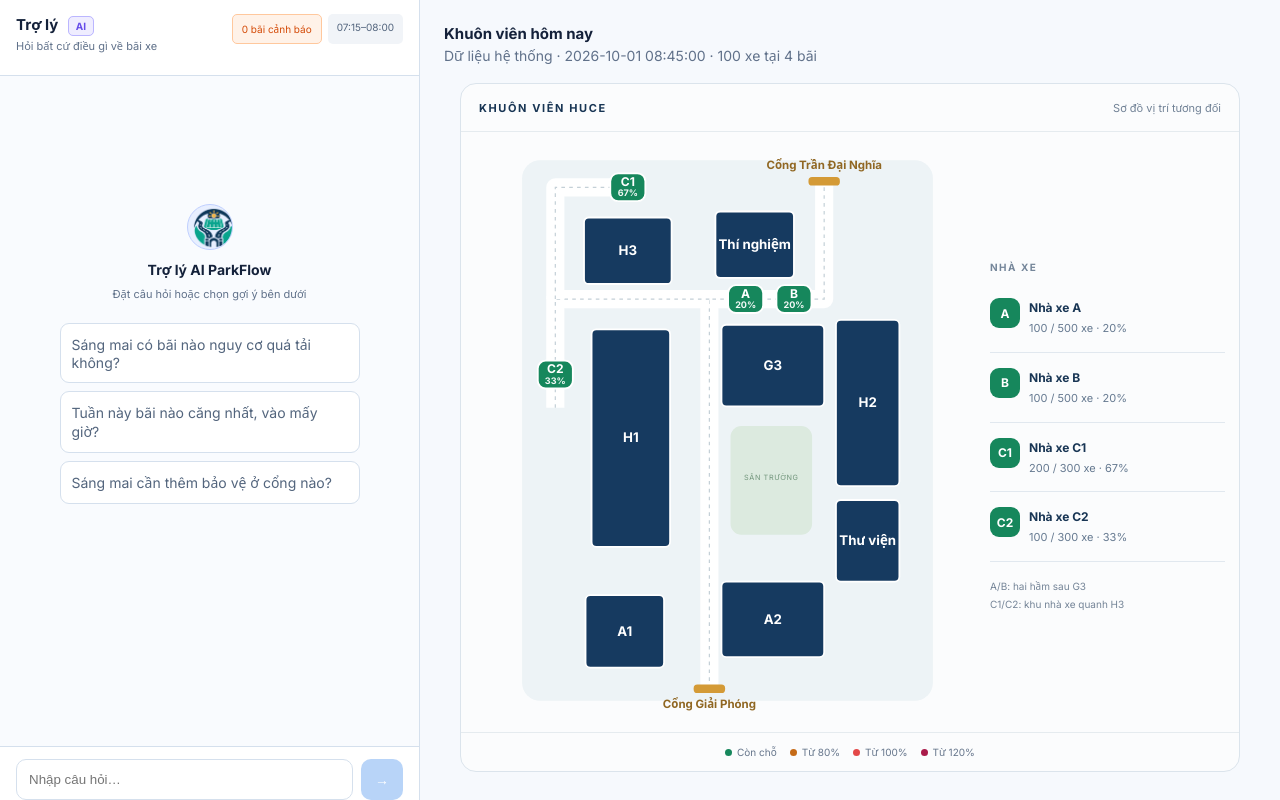
Test case: AssistantPage › renders AI markdown as text and never injects returned HTML
The width and height of the screenshot is (1280, 800).
Type "Kiểm tra an toàn" into the field labelled "Nhập câu hỏi" at (184, 780), box 16,759 -> 353,799
(page scrolled)
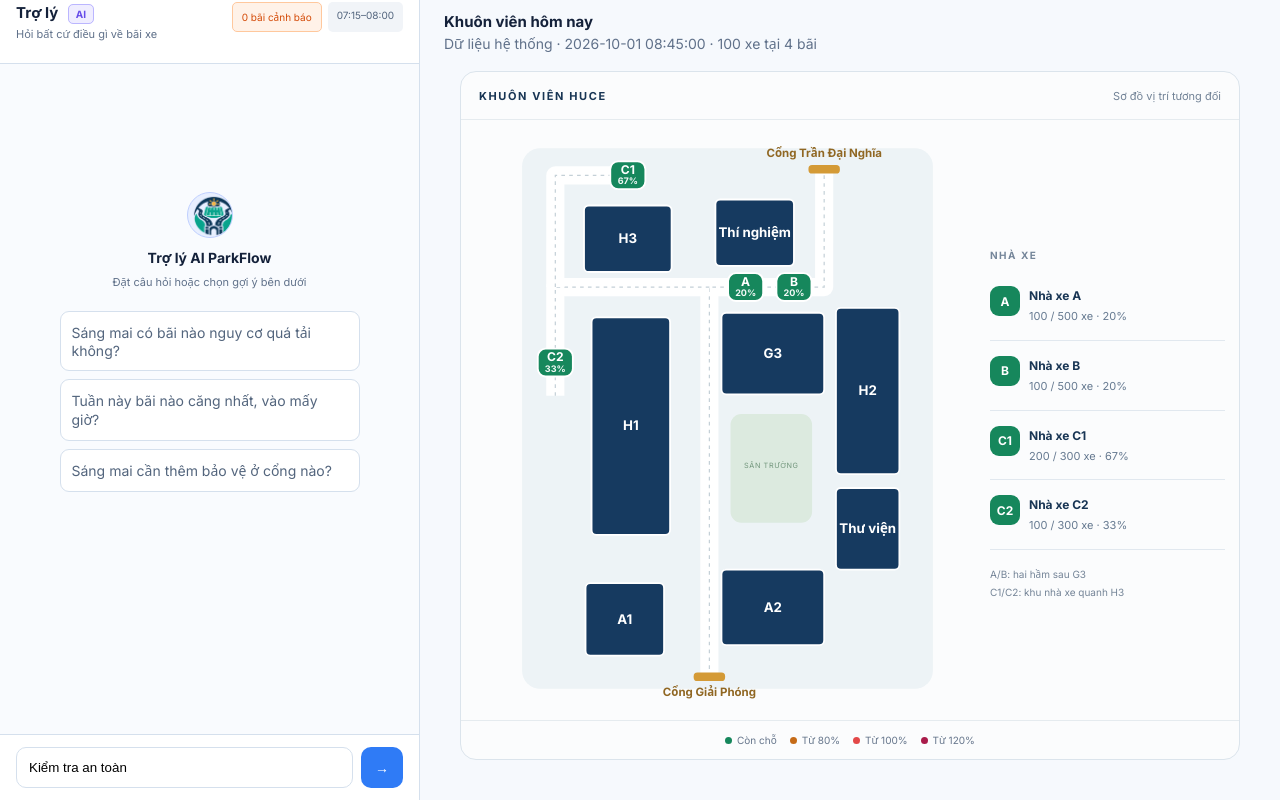
Submit the form named "Nhập câu hỏi", box 0,734 -> 419,799
(page scrolled)
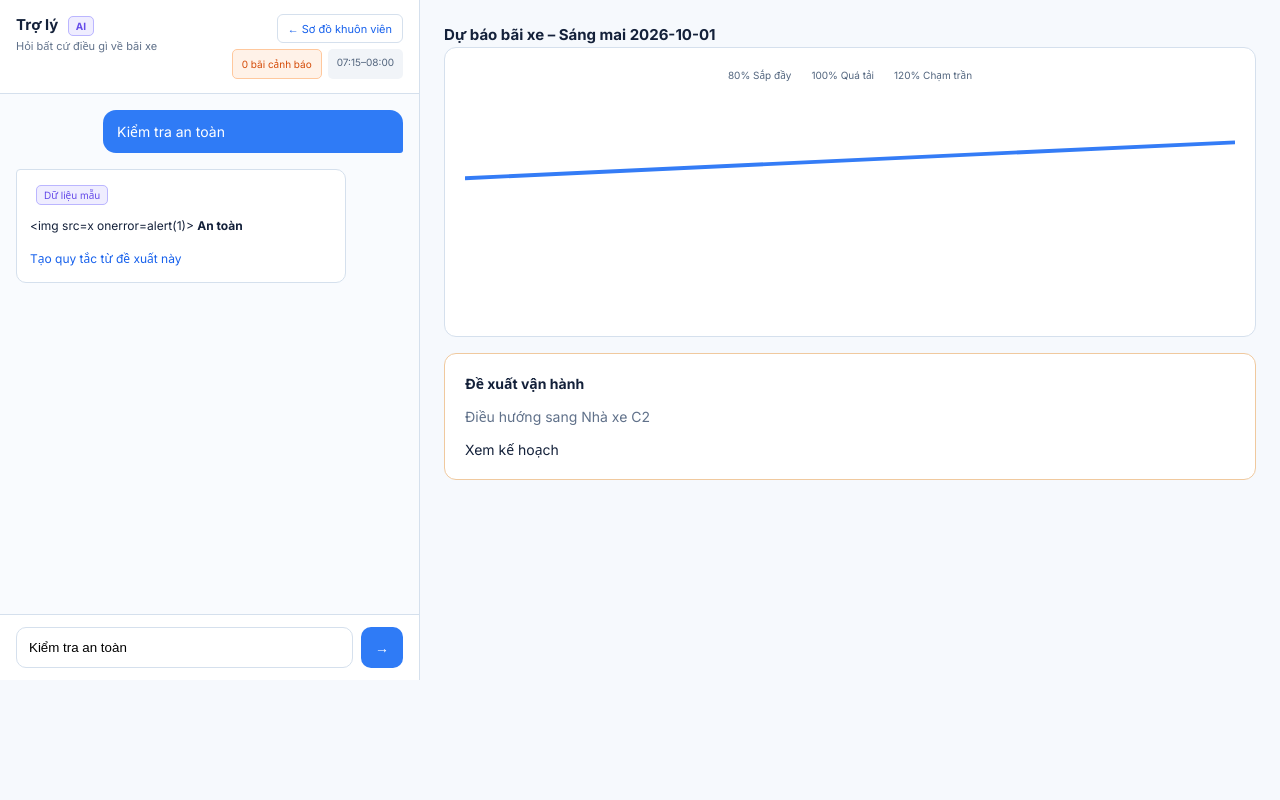
expect the text "<img src=x onerror=alert(1)>" is shown: met, box 30,218 -> 197,233
expect the picture is gone: met
expect the text "An toàn" is shown: met, box 197,218 -> 243,233
